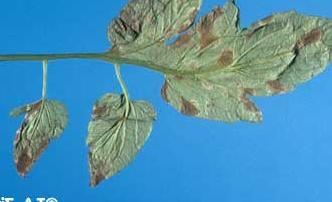Tomato mold leaf: (106, 0, 332, 128), (72, 89, 157, 189), (3, 98, 69, 176)
